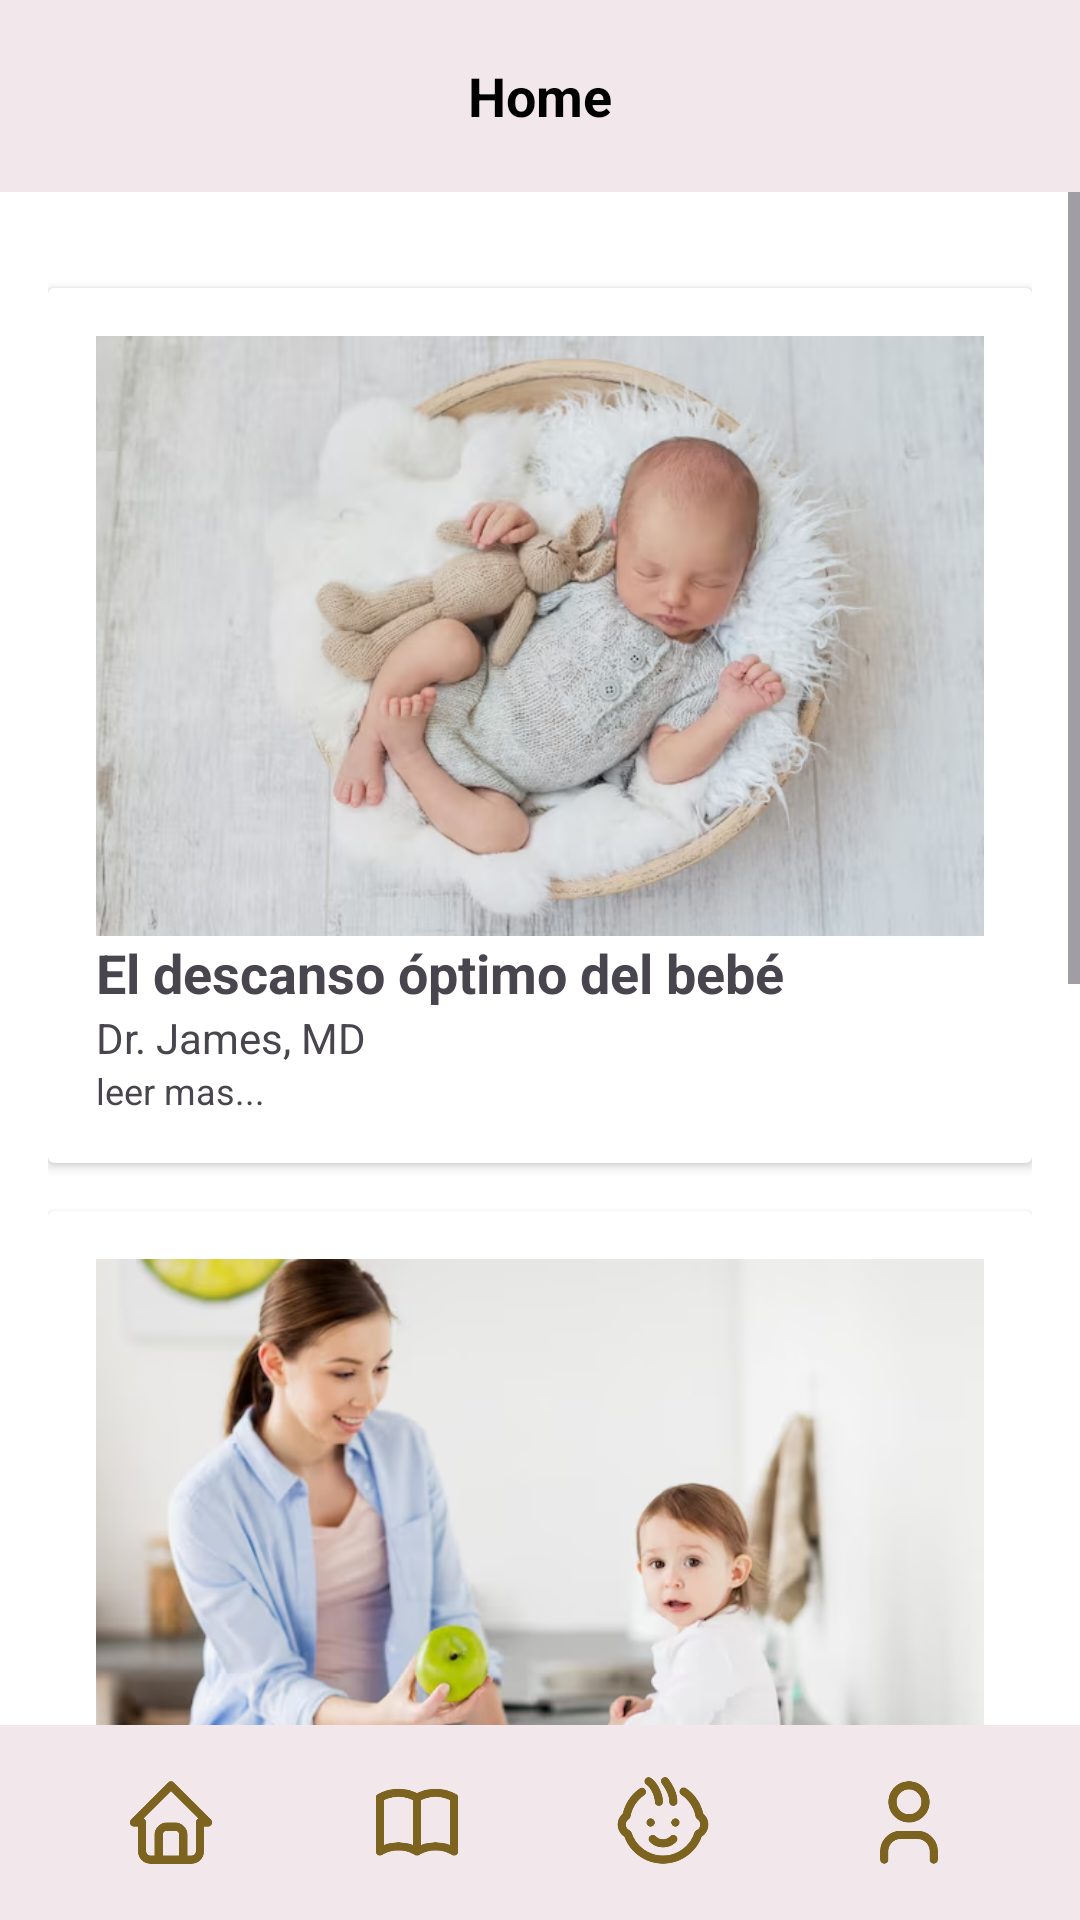

Screen size 1080px×1920px. Icon name, then its box in pixels as bbox(x1, y1, x2, y2):
book: bbox(376, 1789, 458, 1856)
home: bbox(130, 1781, 212, 1864)
moodboy: bbox(617, 1777, 709, 1864)
personaa: bbox(880, 1781, 938, 1864)
